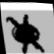not correct: (2, 9, 47, 54)
